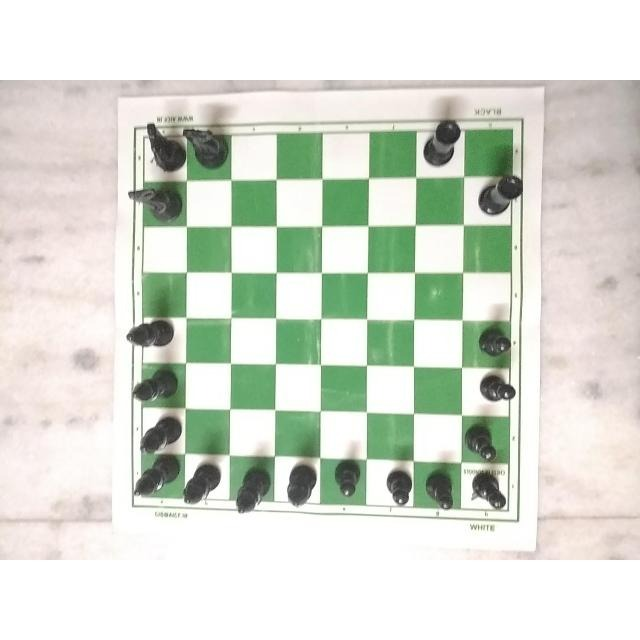black-bishop: (131, 408, 191, 461), (225, 462, 275, 520), (123, 313, 185, 358), (128, 367, 184, 413), (178, 459, 226, 511), (130, 455, 180, 501), (281, 460, 323, 512)
black-knight: (134, 118, 188, 178), (127, 178, 184, 224), (181, 120, 231, 172)
black-pawn: (423, 470, 473, 516), (374, 468, 421, 516), (463, 421, 508, 467), (468, 472, 512, 519), (478, 370, 524, 414), (326, 459, 368, 507), (474, 324, 518, 364)
black-rook: (422, 110, 466, 167), (475, 170, 525, 220)
